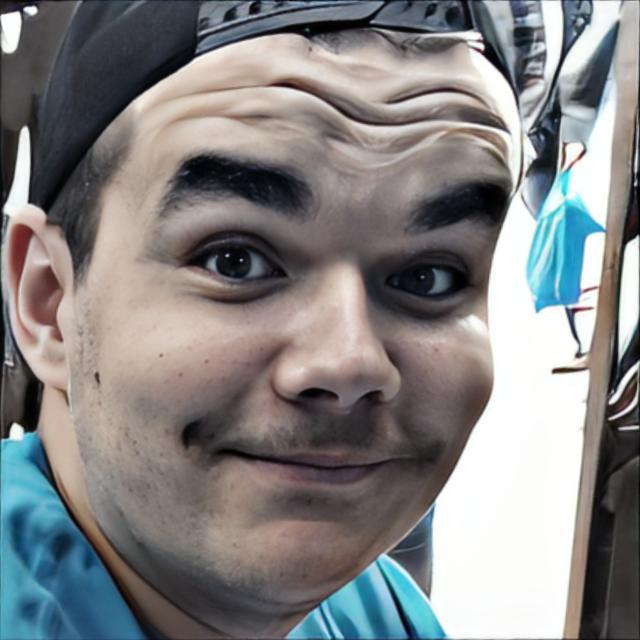surprise: (72, 28, 514, 615)
